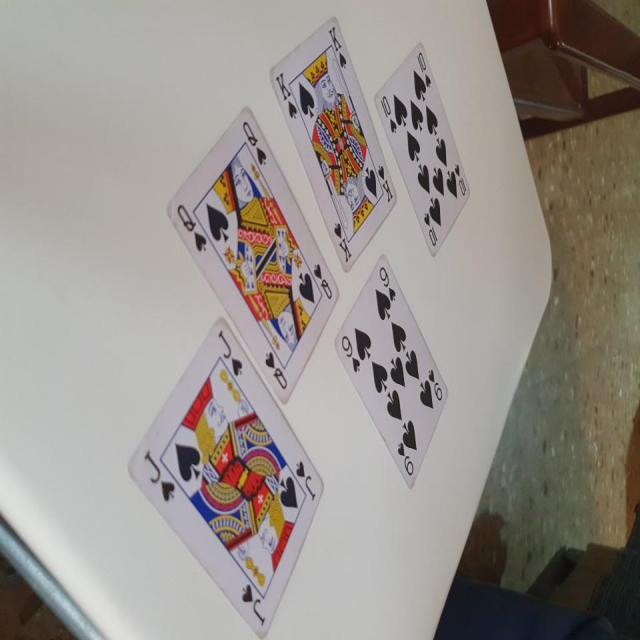10 of spades: (374, 36, 474, 258)
9 of spades: (326, 245, 451, 488)
jack of spades: (114, 314, 324, 640)
king of spades: (267, 12, 402, 281)
queen of spades: (160, 100, 344, 402)
